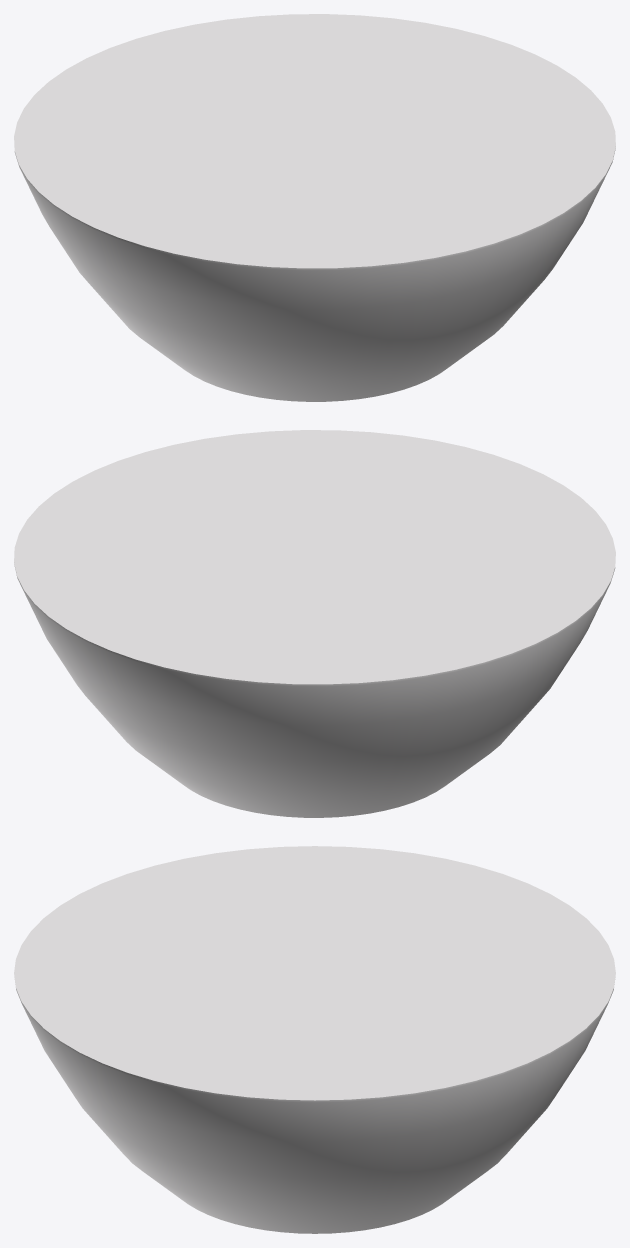
Rendered from filled bowl 1 (1).fbx.
The picture shows the model from 3 angles, top to bottom: view 1: azimuth 30°, elevation 25°; view 2: azimuth 150°, elevation 25°; view 3: azimuth 270°, elevation 25°; orthographic projection.
Visible parts, largest first — view 1: REAL B3.002; view 2: REAL B3.002; view 3: REAL B3.002.
Part boxes in pixels (x1=…): REAL B3.002: x1=14, y1=14, x2=615, y2=401; REAL B3.002: x1=14, y1=430, x2=615, y2=817; REAL B3.002: x1=14, y1=846, x2=615, y2=1233.
Size of the model in its own units: 0.2577 by 0.0931 by 0.2577.
